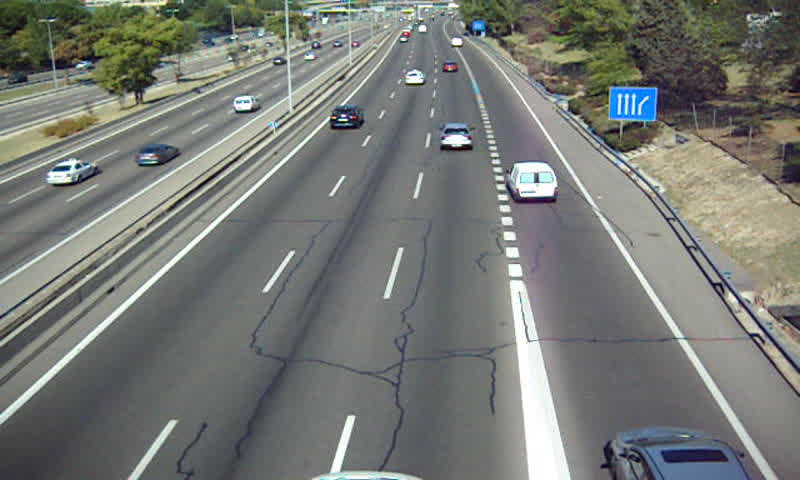car: (329, 105, 363, 130), (441, 124, 471, 151), (404, 69, 425, 86), (443, 60, 459, 72)
van: (508, 163, 556, 200)
